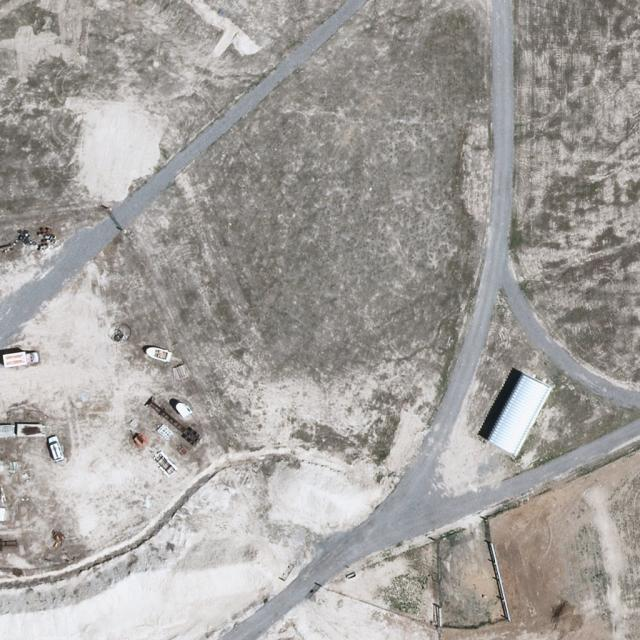vehicle: (2, 350, 40, 368), (46, 435, 66, 463)
